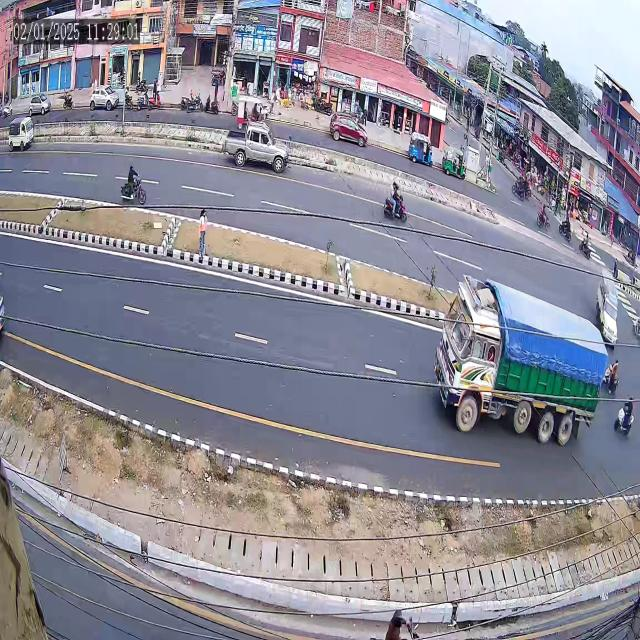motorcycle: (116, 154, 156, 212), (614, 383, 640, 454)
truck: (427, 265, 608, 492)
